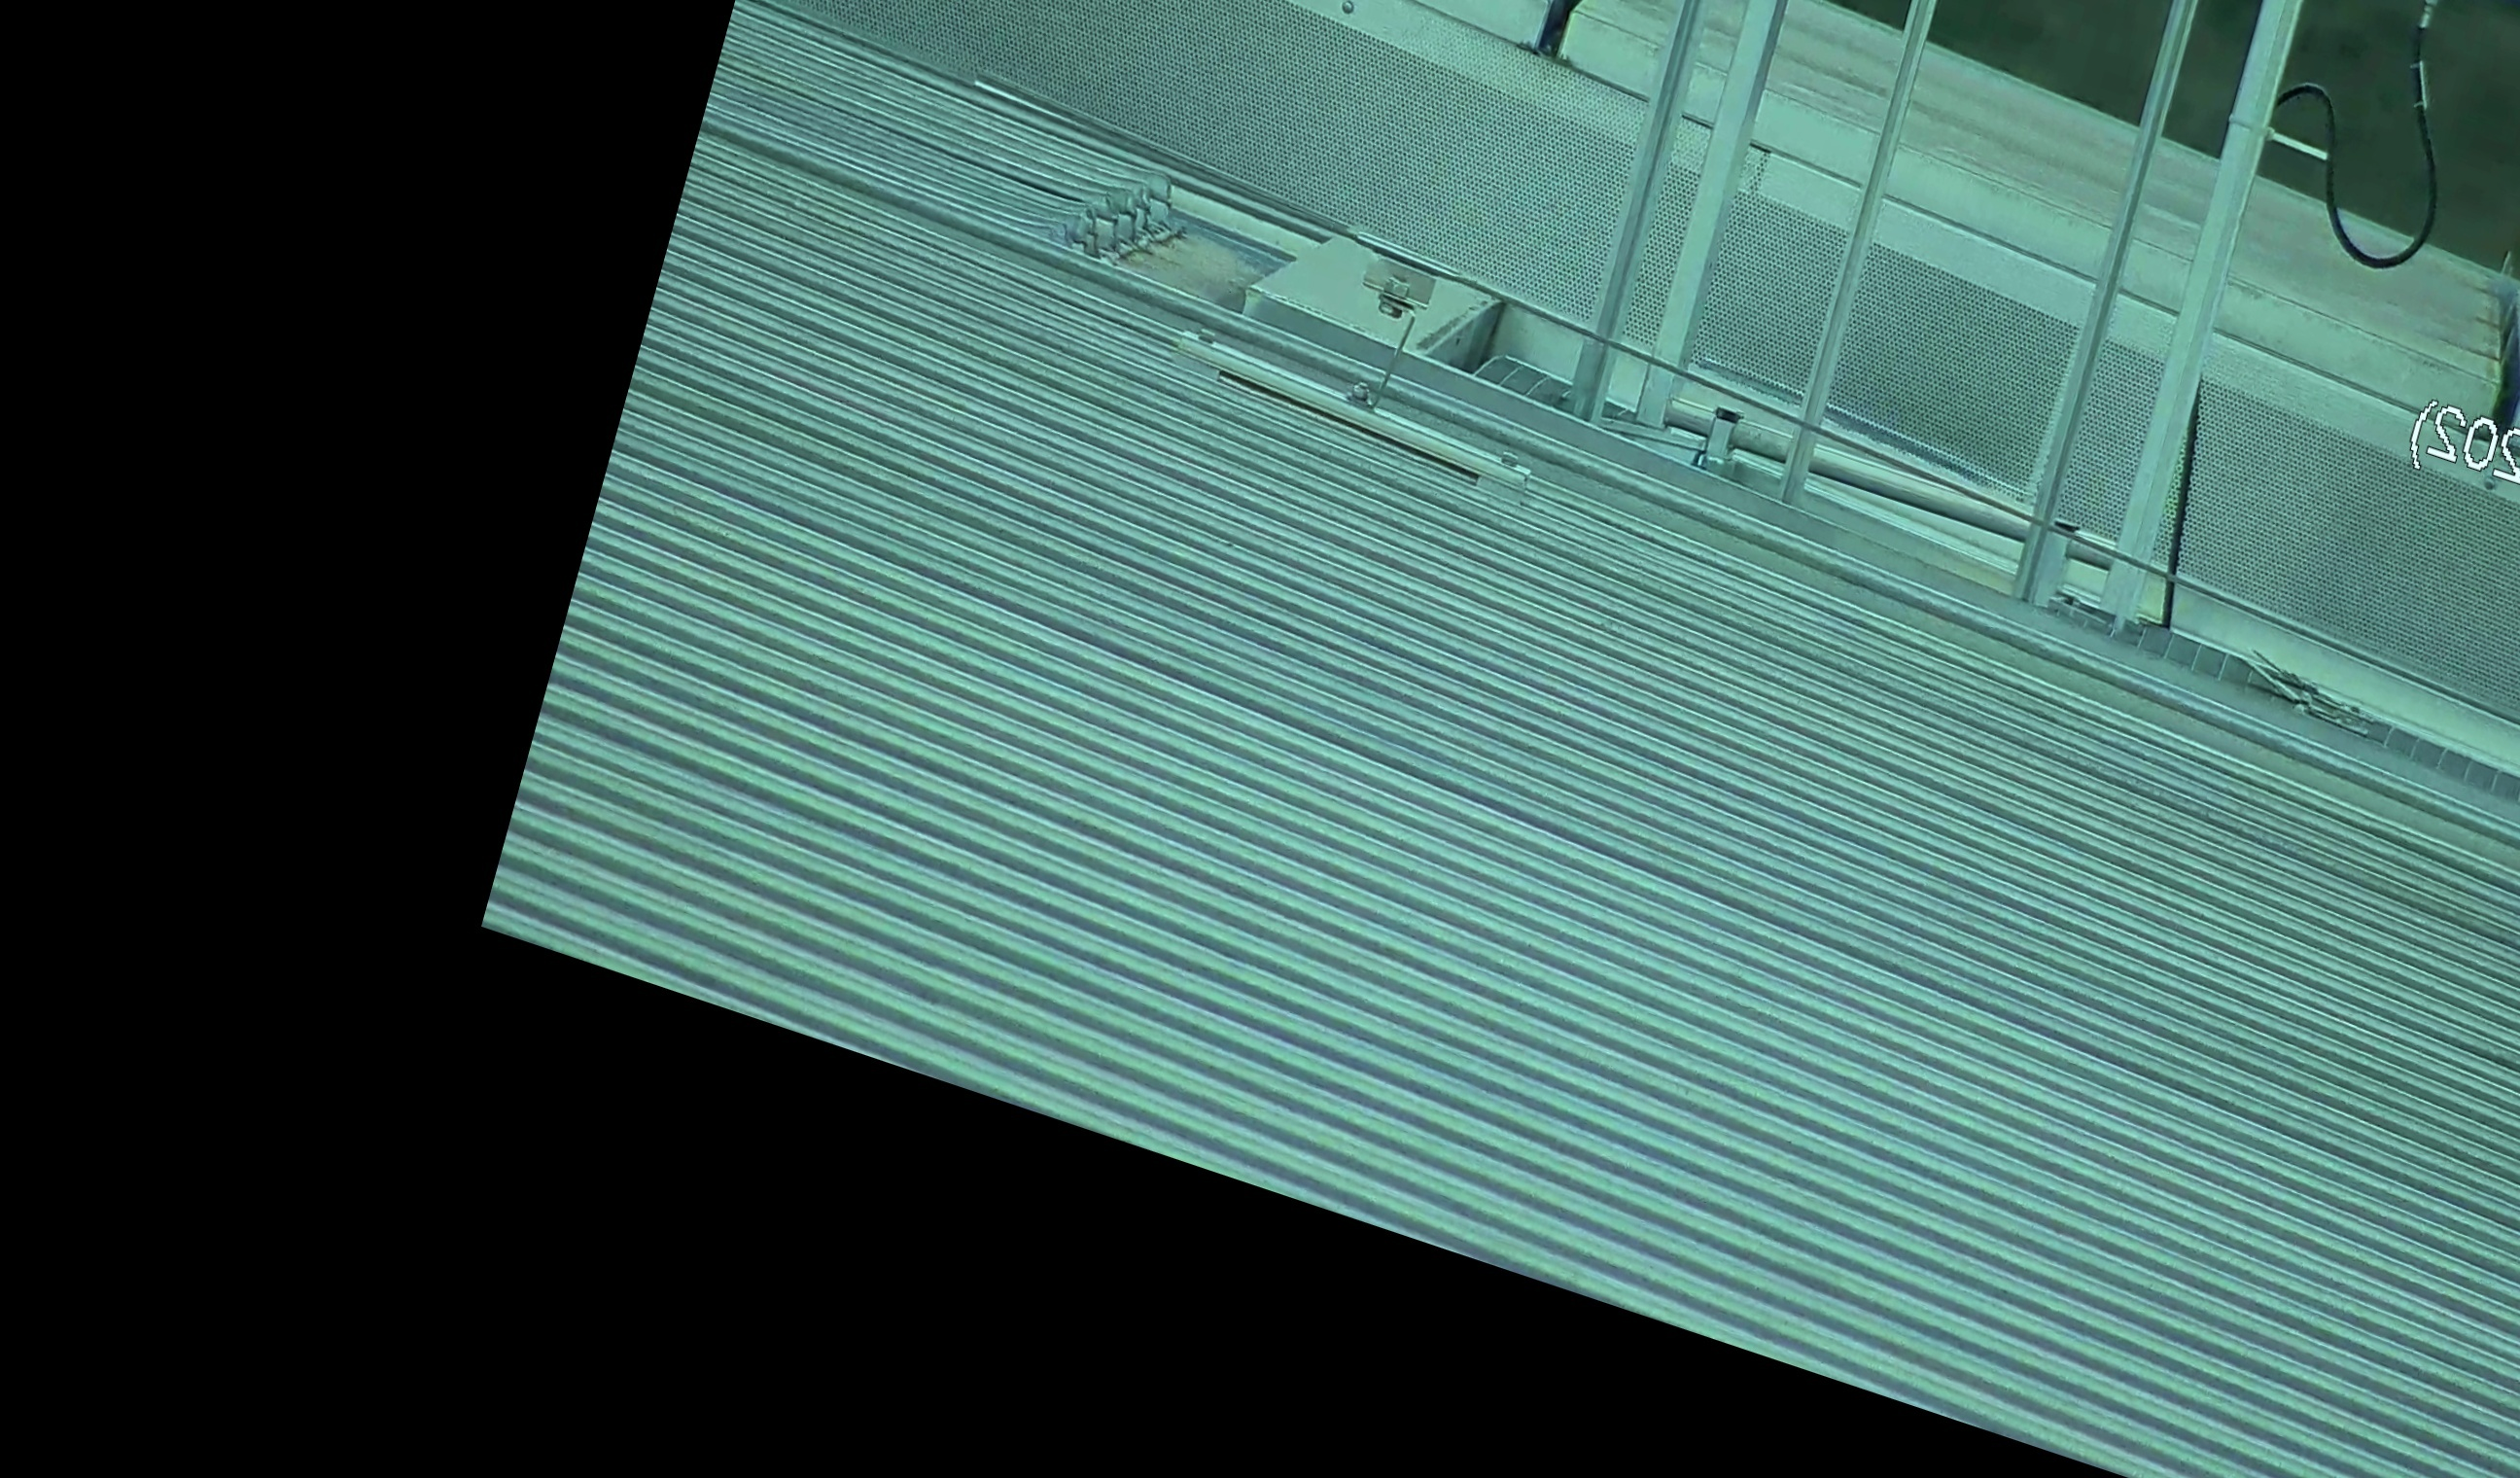Other: (1505, 0, 1662, 84)
